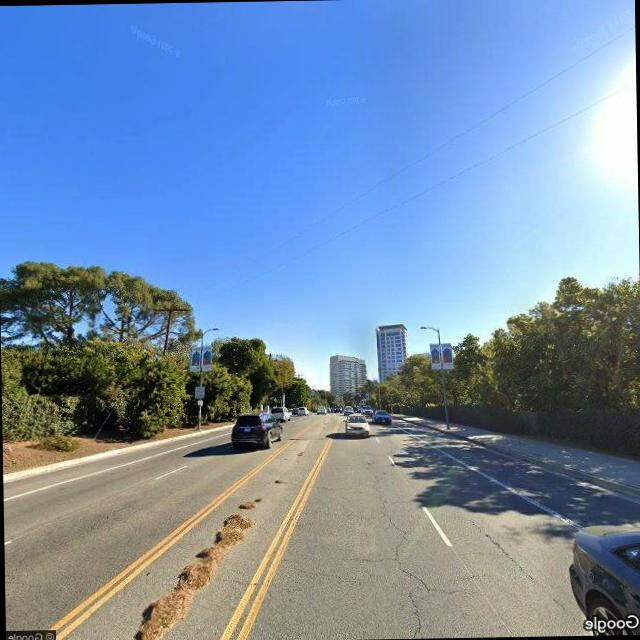pothole: (364, 477, 450, 638), (470, 510, 570, 614)
